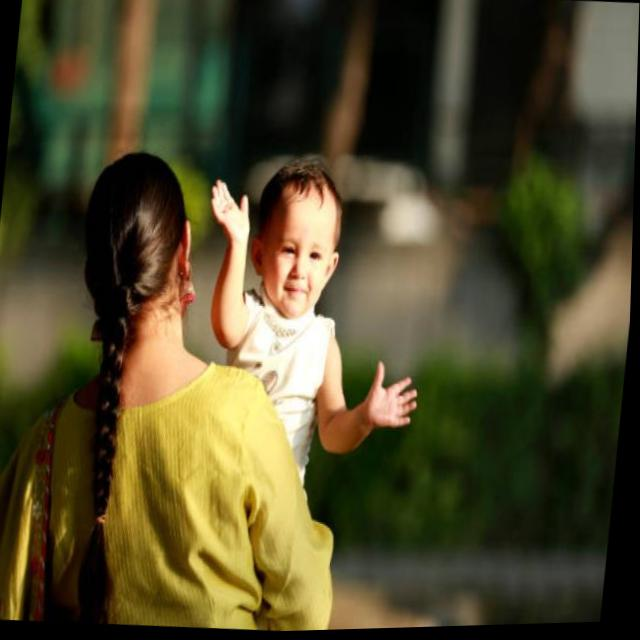no helmet: (70, 151, 204, 372)
